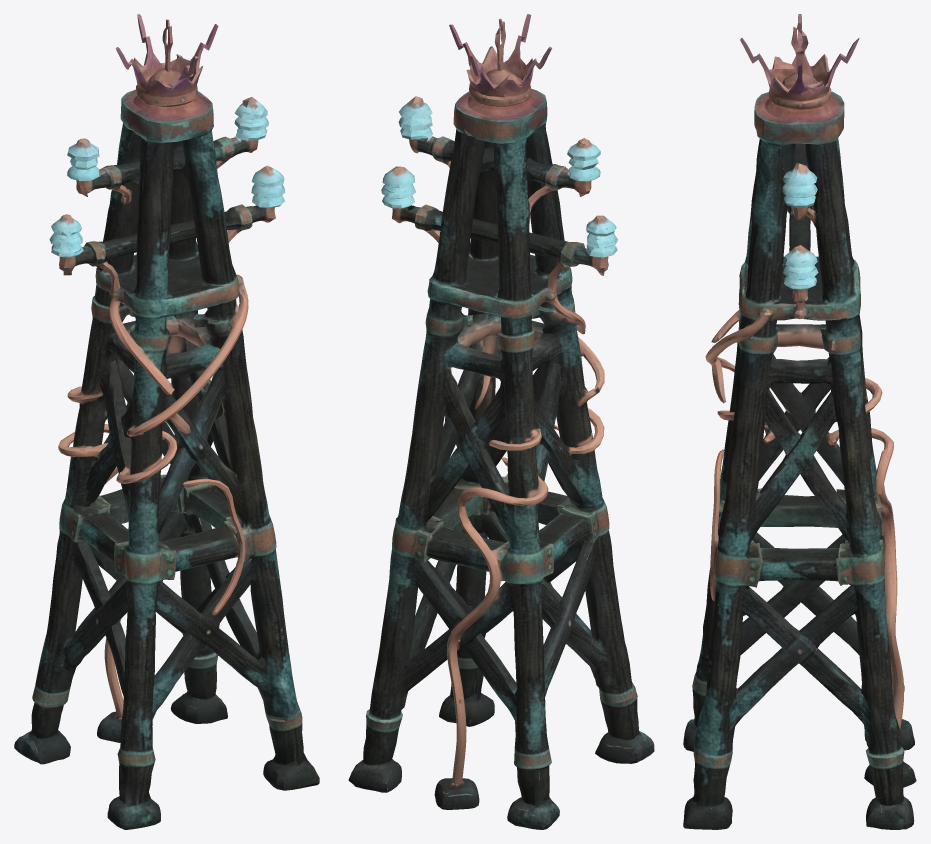
The model's file is relay_pylon_v1.glb.
3 views of the same model, side by side, from view 1: azimuth 30°, elevation 25°; view 2: azimuth 150°, elevation 25°; view 3: azimuth 270°, elevation 25° (orthographic).
Visible parts, largest first — view 1: Mesh_0; view 2: Mesh_0; view 3: Mesh_0.
Part boxes in pixels (left/top/right/bottom): Mesh_0: left=14, top=14, right=319, bottom=829; Mesh_0: left=348, top=14, right=654, bottom=829; Mesh_0: left=683, top=14, right=916, bottom=829.
Size of the model in its own units: 0.6033 by 1.86 by 0.5175.
1 material, 1 textured.
